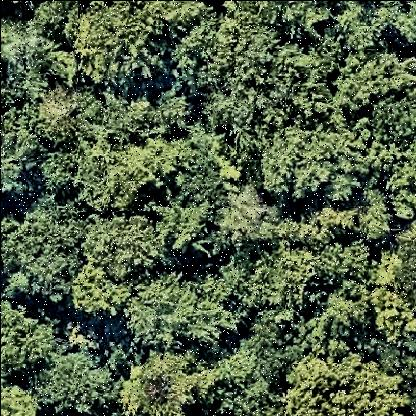tree-top: (211, 39, 323, 139), (120, 274, 237, 354), (256, 122, 370, 204), (72, 6, 173, 94), (281, 357, 412, 416), (28, 341, 130, 416), (17, 197, 84, 297), (76, 211, 176, 278), (113, 345, 207, 416), (329, 45, 416, 115), (77, 94, 188, 147), (1, 20, 72, 101), (327, 1, 416, 58), (106, 131, 180, 199), (256, 241, 325, 312), (241, 311, 305, 387), (1, 299, 56, 382), (148, 192, 216, 248), (1, 110, 44, 196), (70, 262, 128, 324), (214, 189, 278, 244), (175, 141, 225, 205), (315, 237, 374, 287), (367, 93, 416, 153), (321, 285, 374, 340), (355, 186, 395, 252), (36, 147, 86, 198), (371, 287, 416, 341), (385, 154, 416, 224), (40, 85, 78, 132), (2, 381, 42, 416)
